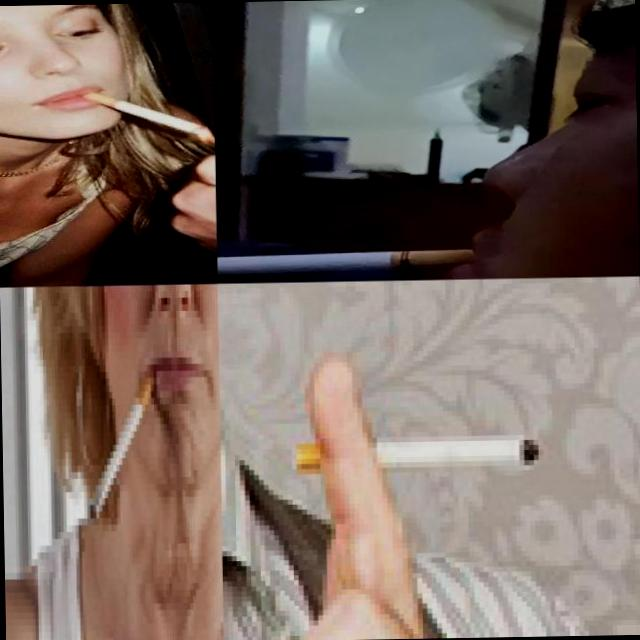cigarette: (84, 357, 164, 526), (296, 429, 548, 469), (217, 246, 478, 276), (84, 90, 201, 134)
